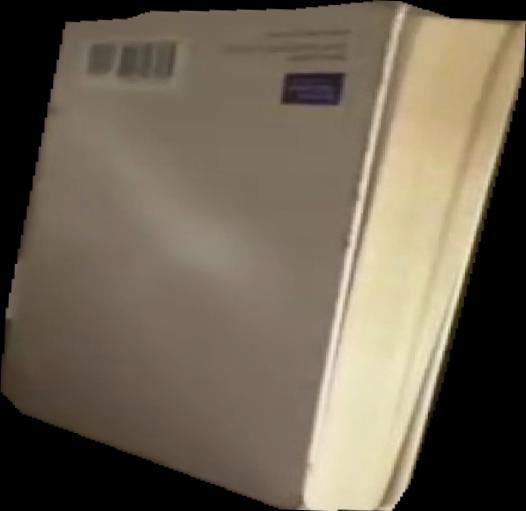backward: (1, 1, 526, 511)
